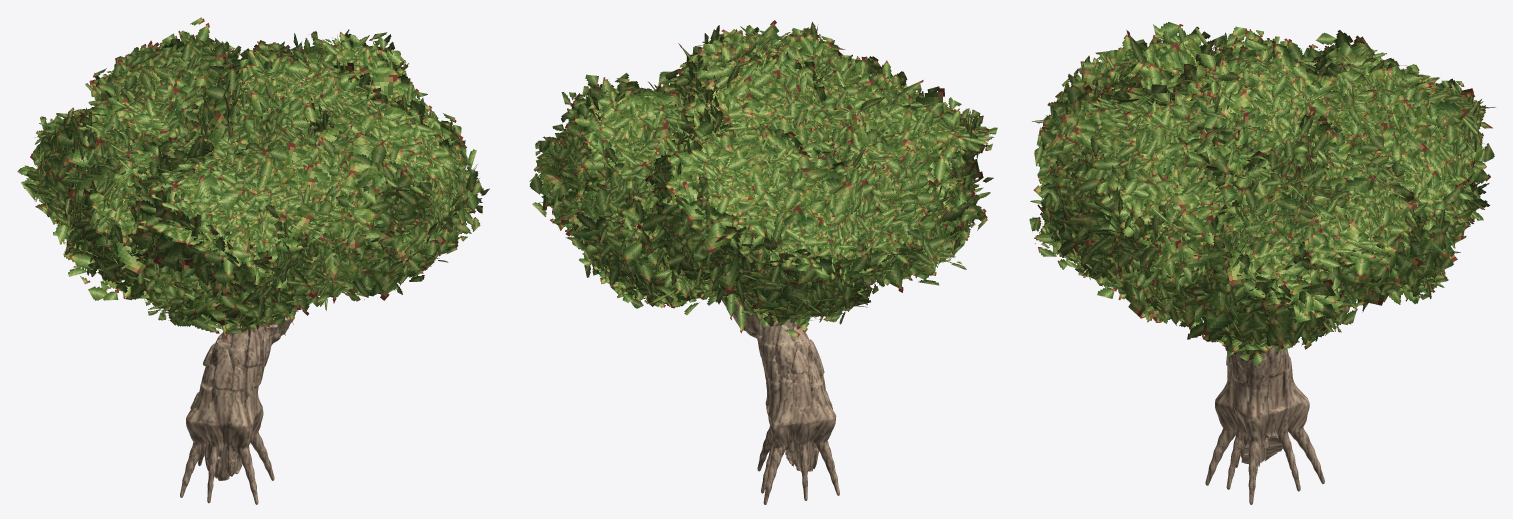
The model's file is macieira_final_tronco_folhas.glb.
The picture shows the model from 3 angles, left to right: view 1: azimuth 30°, elevation 25°; view 2: azimuth 150°, elevation 25°; view 3: azimuth 270°, elevation 25°; orthographic projection. The views are drawn at different scales.
Visible parts, largest first — view 1: macieira_inclinada; view 2: macieira_inclinada; view 3: macieira_inclinada.
Boxes of the visible parts, <box> form: macieira_inclinada: <box>17,17,489,504</box>; macieira_inclinada: <box>529,20,997,504</box>; macieira_inclinada: <box>1029,22,1495,504</box>.
Size of the model in its own units: 6.33 by 6.55 by 6.
Materials: 2 (1 with a texture image).
